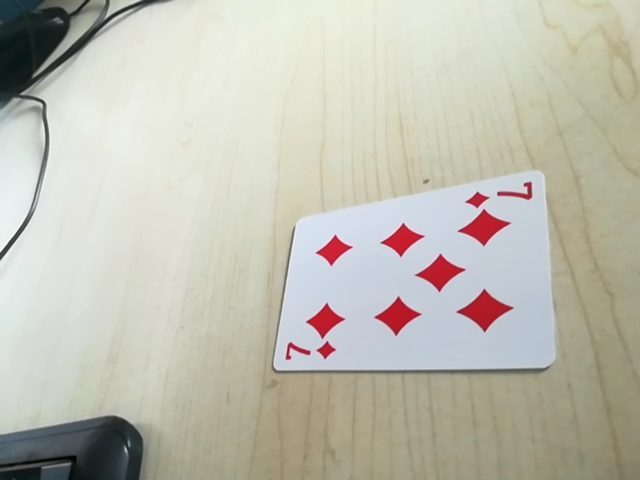fk 7: (461, 179, 539, 212), (279, 338, 339, 367)
